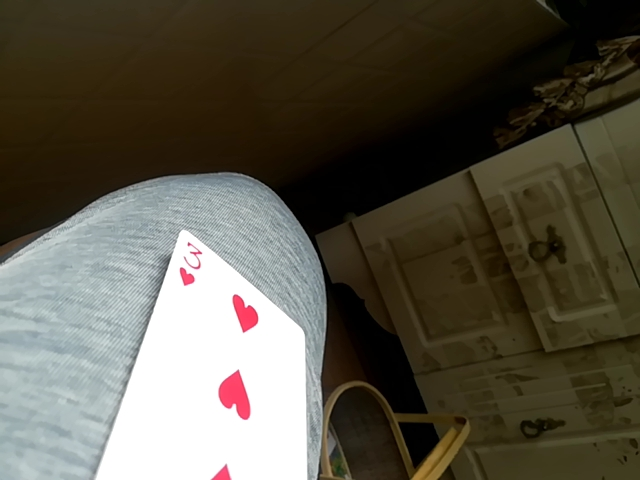hx 3: (79, 232, 317, 480)
